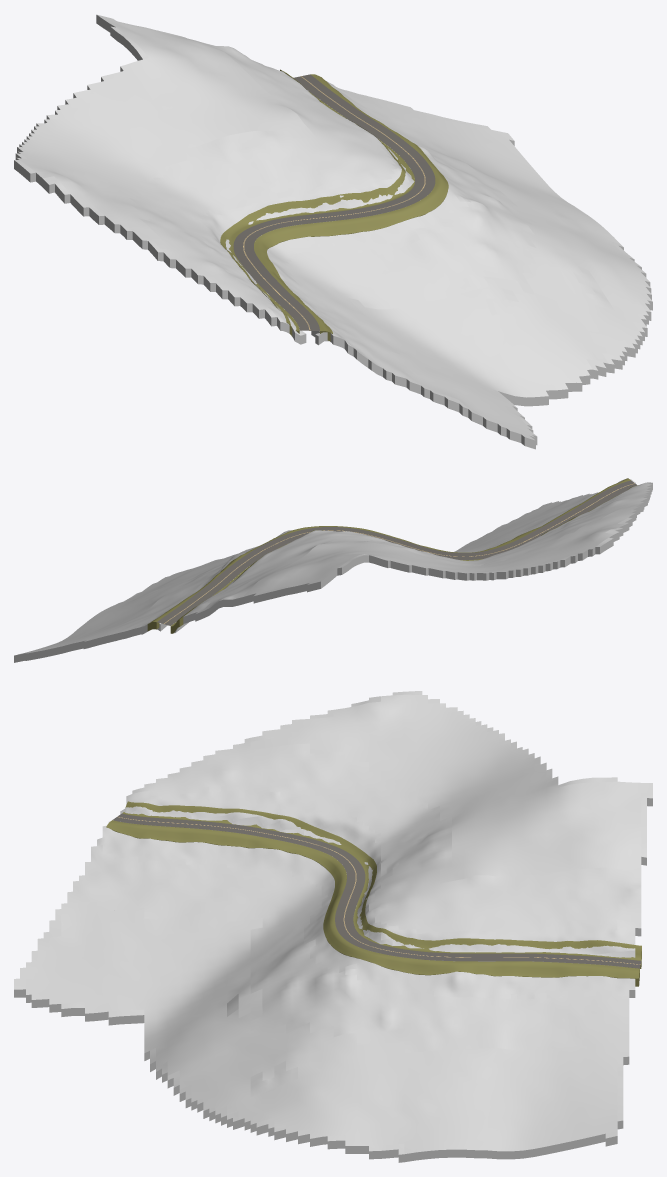
Rendered from conz_207.glb.
3 renders of one model, top to bottom at view 1: azimuth 30°, elevation 25°; view 2: azimuth 150°, elevation 25°; view 3: azimuth 270°, elevation 25°, orthographic. The views are drawn at different scales.
Visible parts, largest first — view 1: terrain207, road207, verge207R, verge207L; view 2: terrain207, road207, verge207R, paint_yellow207, verge207L; view 3: terrain207, verge207R, road207, verge207L.
Part boxes in pixels (x1=…): terrain207: x1=14, y1=14, x2=652, y2=449; road207: x1=233, y1=74, x2=435, y2=330; verge207R: x1=254, y1=74, x2=448, y2=341; verge207L: x1=220, y1=69, x2=414, y2=336; terrain207: x1=14, y1=478, x2=652, y2=662; road207: x1=157, y1=480, x2=636, y2=625; verge207R: x1=147, y1=478, x2=630, y2=630; paint_yellow207: x1=164, y1=483, x2=634, y2=623; verge207L: x1=170, y1=485, x2=637, y2=633; terrain207: x1=14, y1=691, x2=652, y2=1162; verge207R: x1=106, y1=820, x2=639, y2=986; road207: x1=112, y1=813, x2=641, y2=968; verge207L: x1=122, y1=801, x2=641, y2=968.
Bounding box in the file's own units: 212 × 79.52 × 216.
